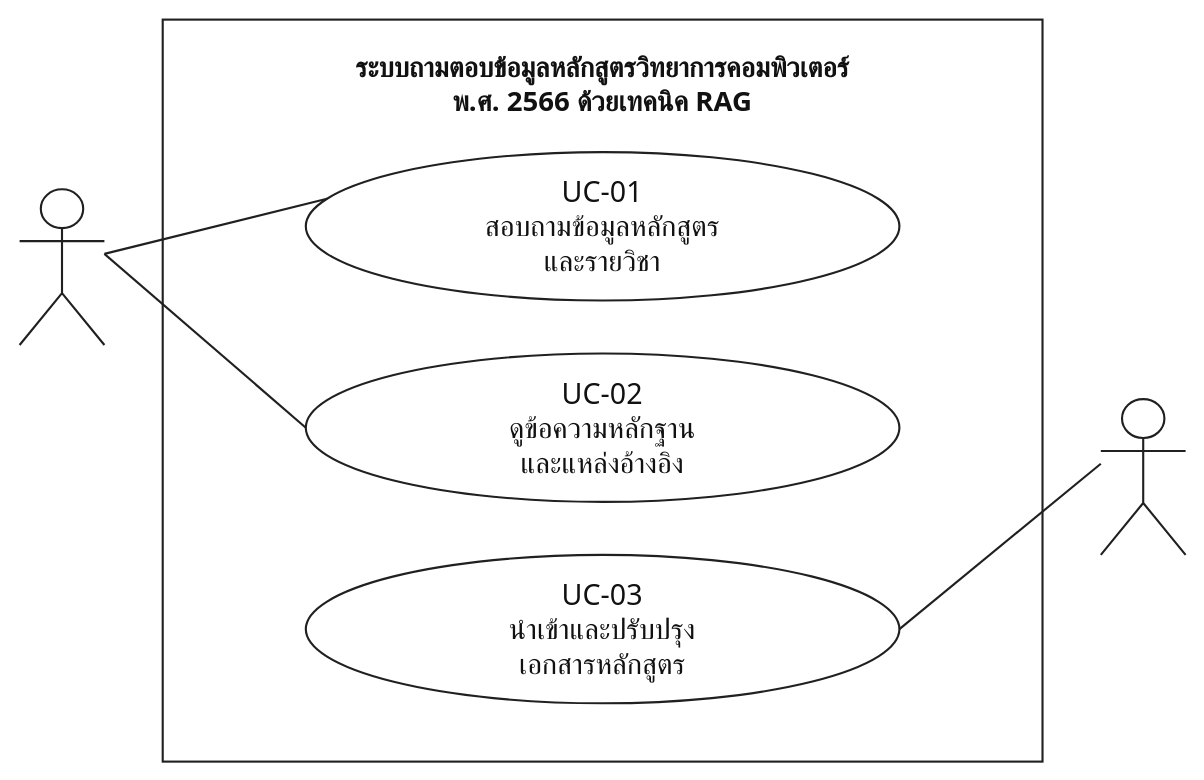
The diagram is 1204 pixels wide and 780 high, and some of its shapes have lost their labels. The centre of each missing label's shape, as x and y in pixels:
"นักศึกษา หลักสูตร พ.ศ. 2566 ชั้นปีที่ 1–4" belongs at (x=61, y=267).
"ผู้ดูแลฐานความรู้ (ทีมผู้จัดทำโครงงาน)" belongs at (x=1142, y=476).
